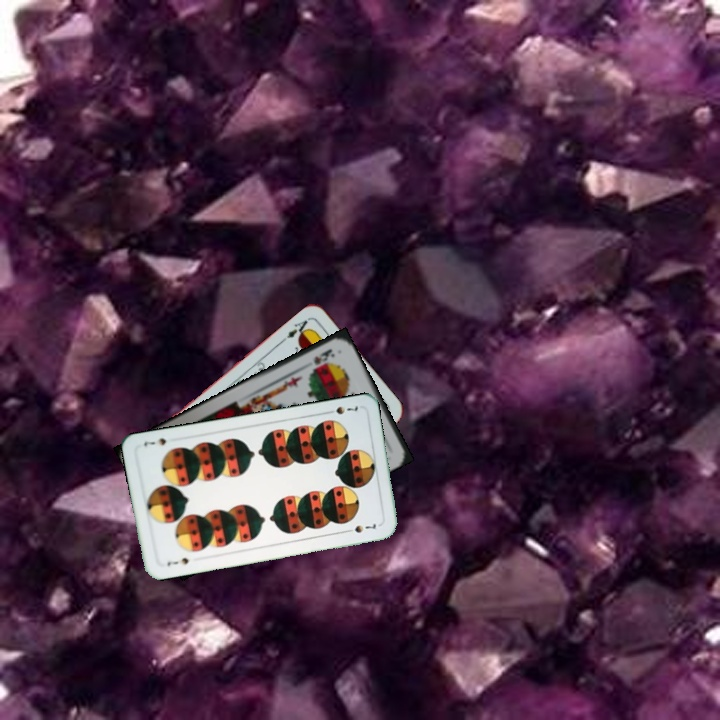EA: (279, 314, 313, 344)
S7: (322, 401, 360, 417), (163, 553, 191, 568)
SK: (310, 345, 337, 368)
